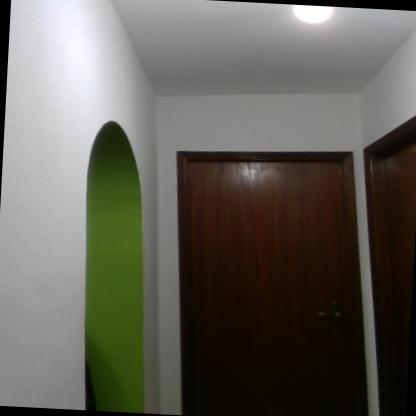closed: (154, 127, 383, 416), (354, 101, 416, 416)
